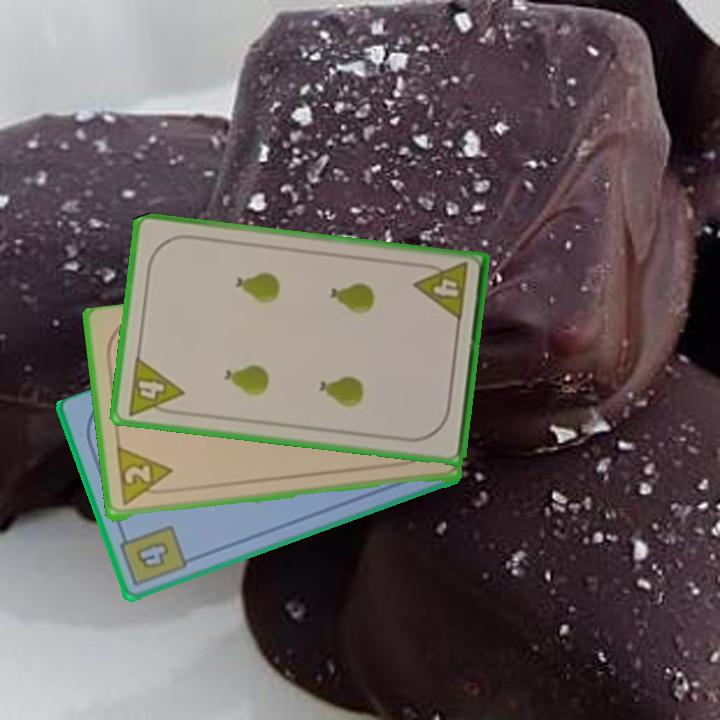2p: (112, 446, 177, 509)
4b: (116, 522, 190, 590)
4p: (123, 353, 186, 419), (411, 259, 471, 324)
